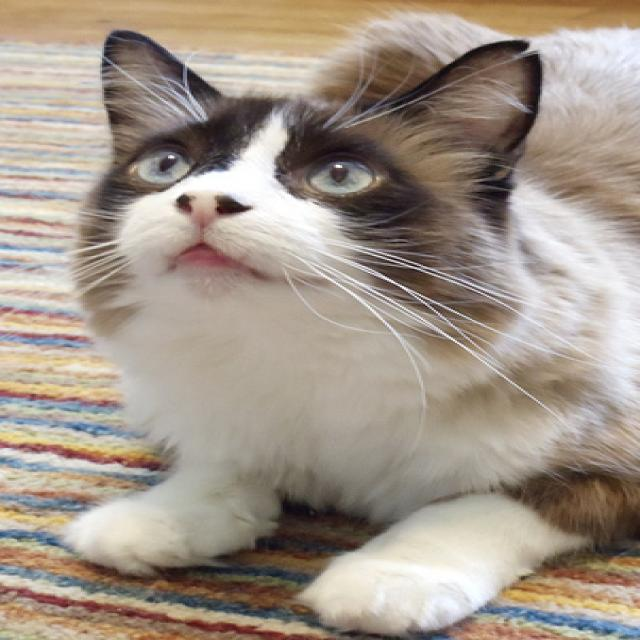Ragdoll: (55, 7, 640, 640)
